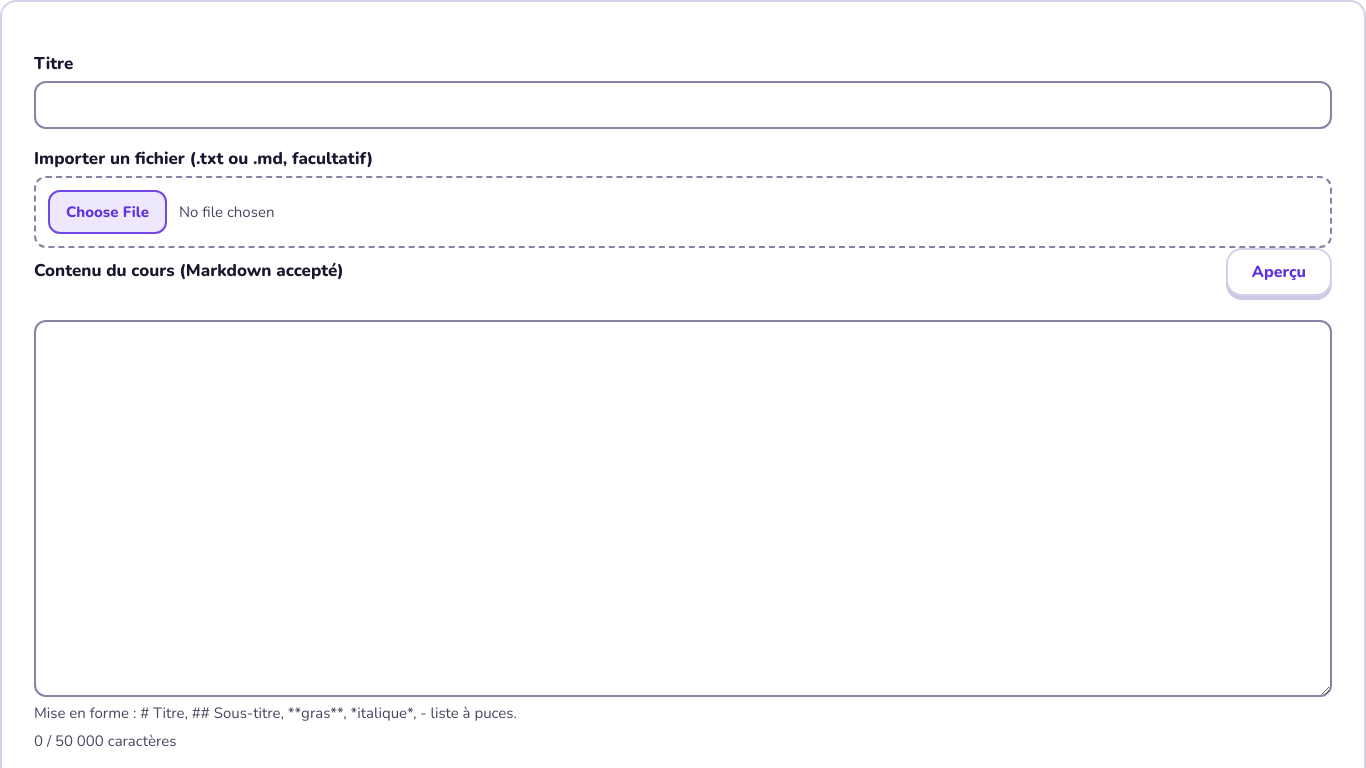
FormulaireCours › une erreur de l'API sur le titre marque le champ titre
Type "Biologie" into the field labelled "Titre".
click(683, 105); type("Biologie")  # box [34,81,1332,129]
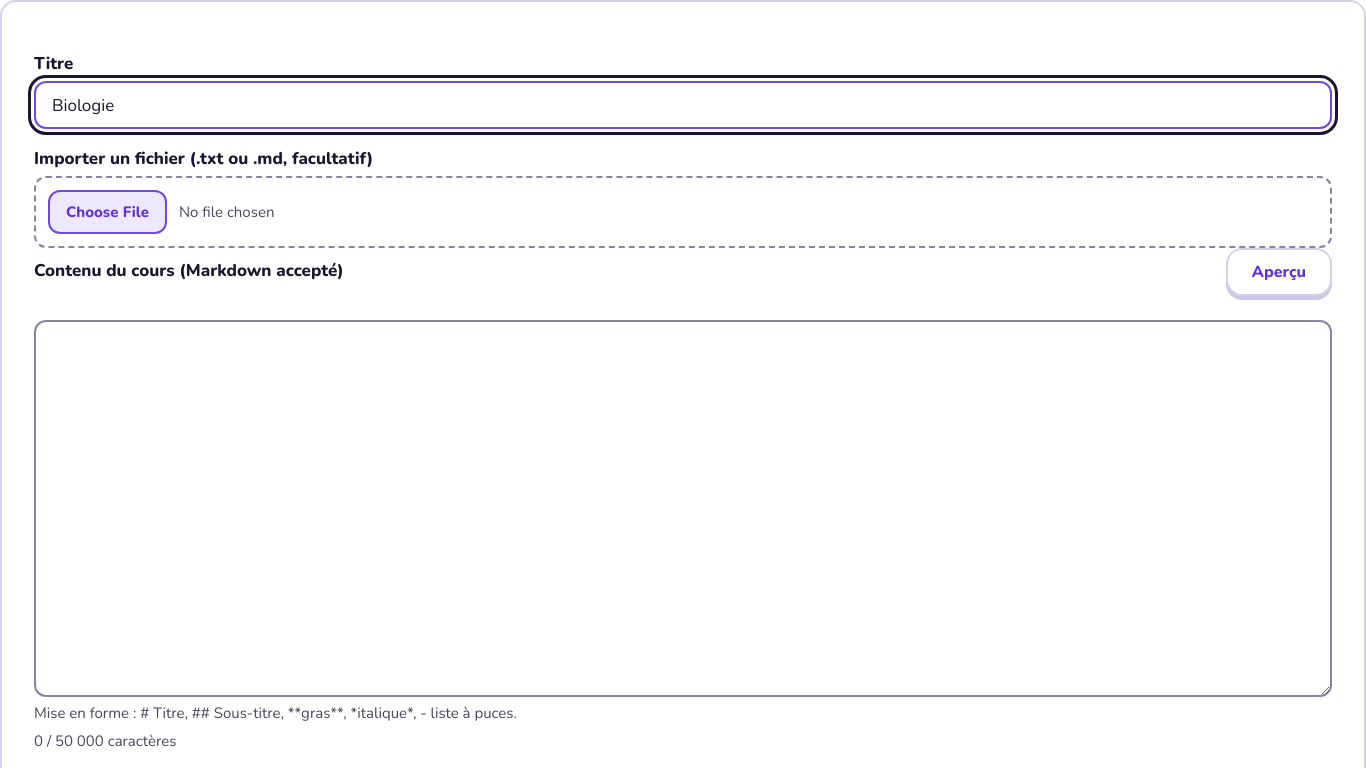
Type "La cellule." into the text box labelled "Contenu du cours (Markdown accepté)".
click(683, 509); type("La cellule.")  # box [34,320,1332,697]
(page scrolled)
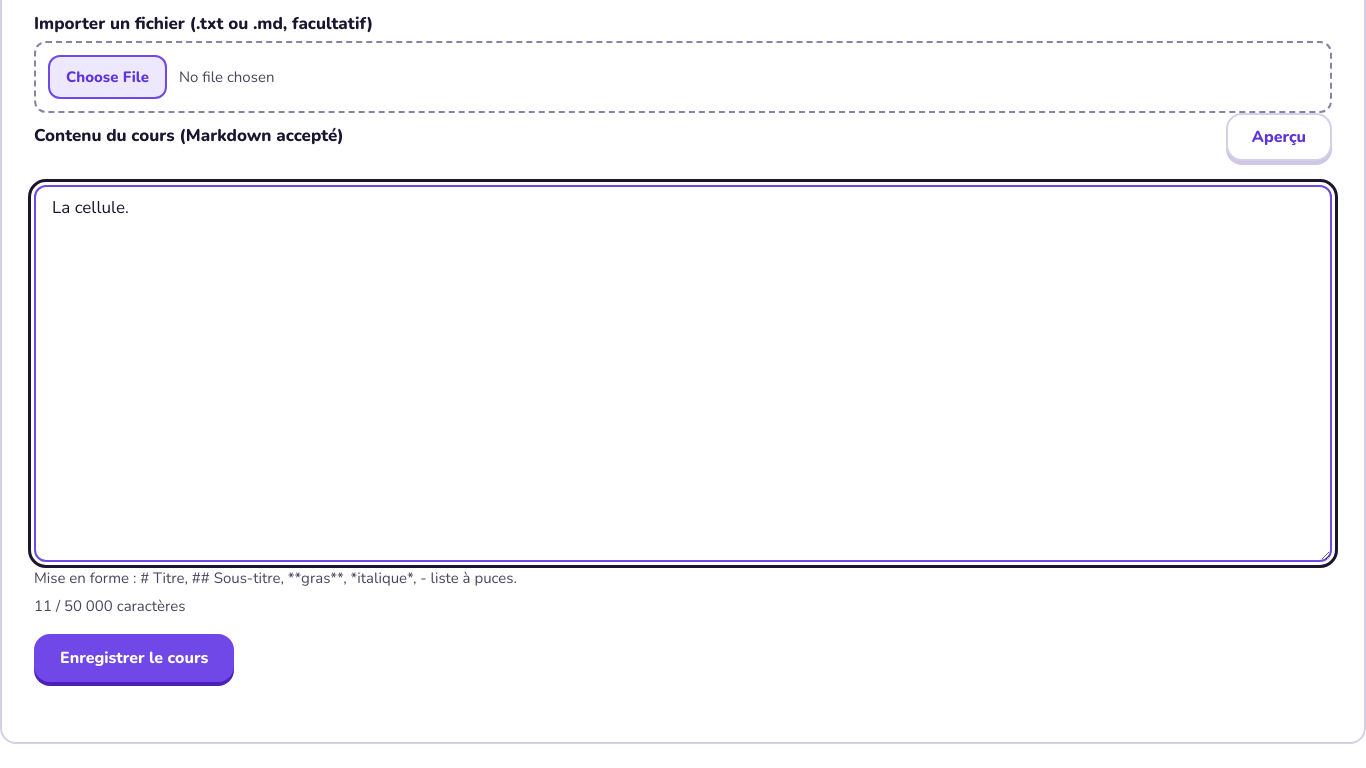
Click the button "Enregistrer le cours".
click(134, 658)  # box [34,634,234,682]
(page scrolled)
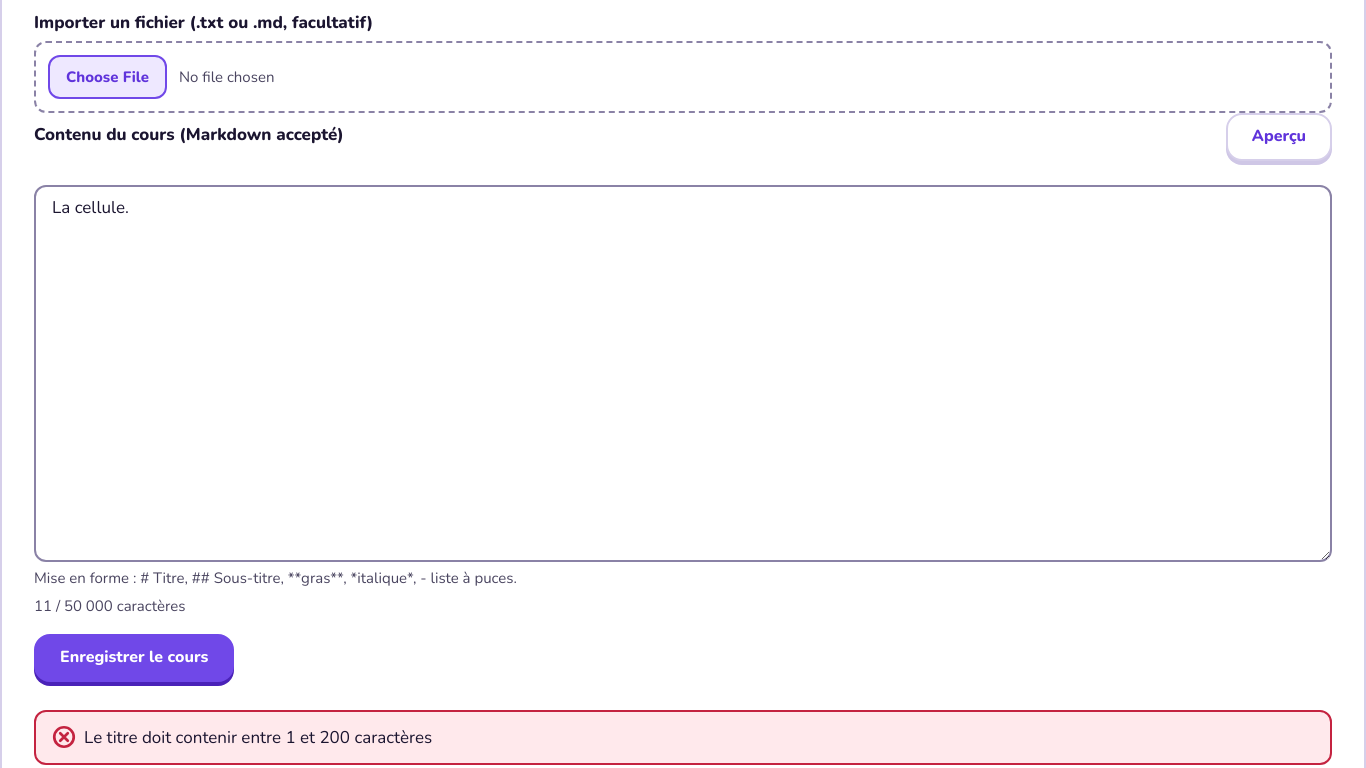
Now the message "Le titre doit contenir entre 1 et 200 caractères" is shown, box [34,710,1332,765]
